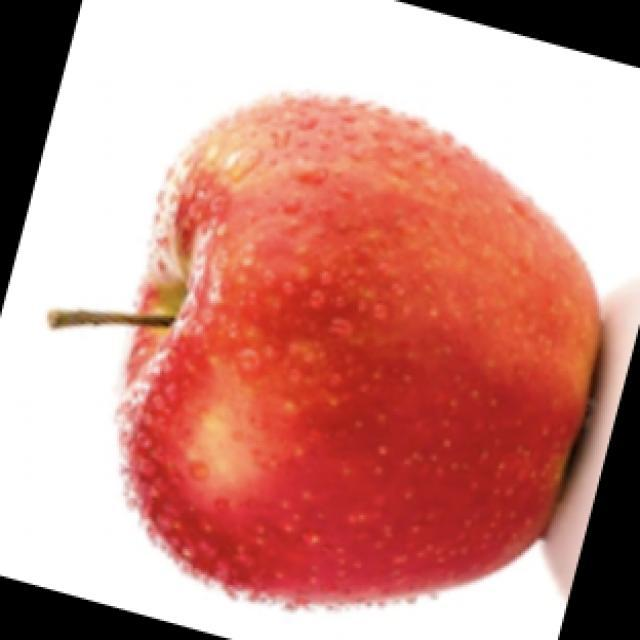Fresh Apple: (137, 87, 600, 598)
